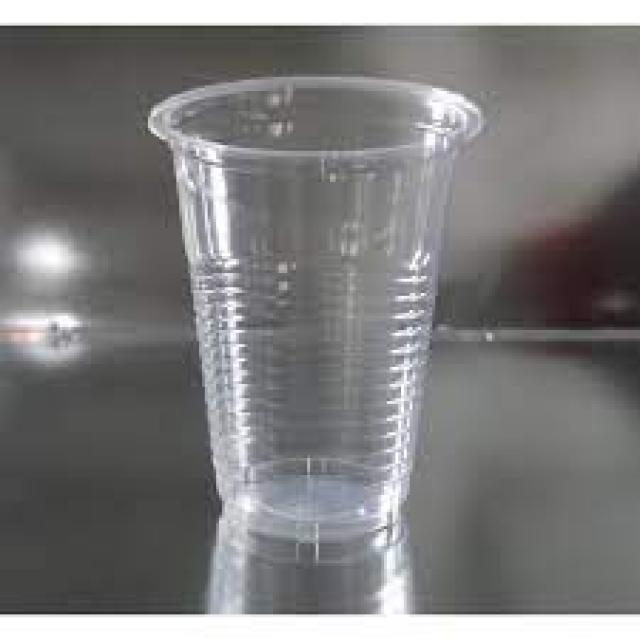plastic: (149, 76, 484, 541)
